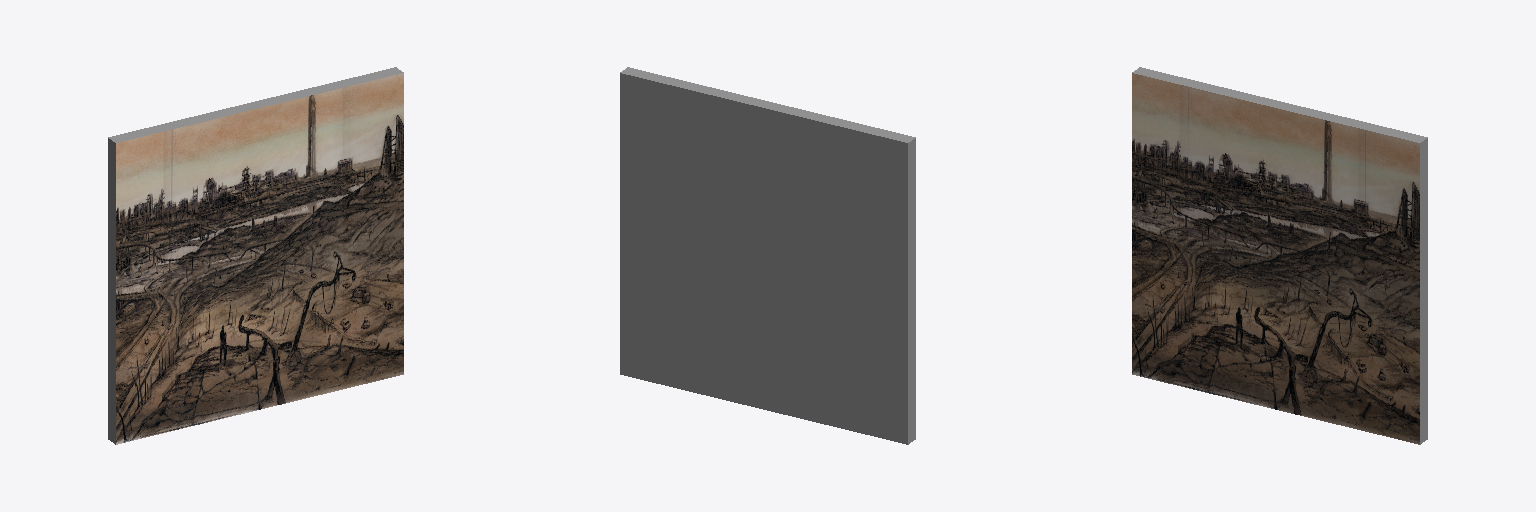
The picture shows the model from 3 angles: view 1: azimuth 30°, elevation 25°; view 2: azimuth 150°, elevation 25°; view 3: azimuth 330°, elevation 25°; orthographic projection.
Visible parts, largest first — view 1: Cube; view 2: Cube; view 3: Cube.
Part boxes in pixels (x1,y1,x2,y2): Cube: (108, 67, 403, 444); Cube: (620, 67, 915, 444); Cube: (1132, 67, 1427, 444).
Bounding box in the file's own units: 12.56 × 12.56 × 0.6.
Materials: 2 (1 with a texture image).